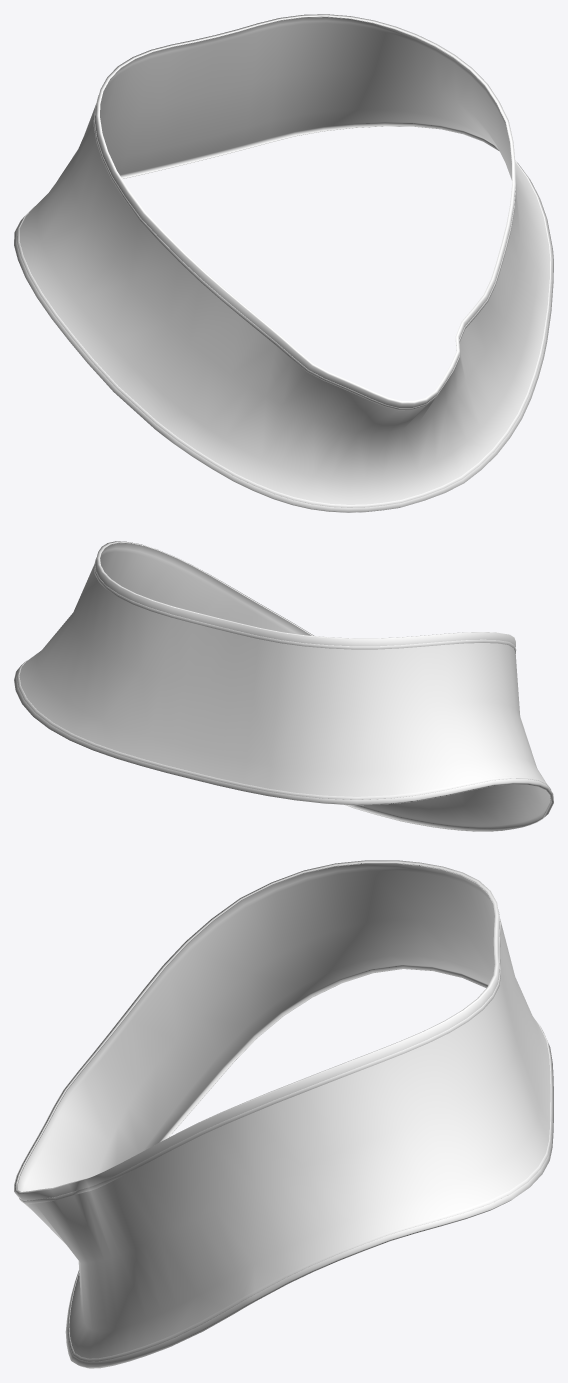
Rendered from Jac_Col.glb.
3 renders of one model, top to bottom at view 1: azimuth 30°, elevation 25°; view 2: azimuth 150°, elevation 25°; view 3: azimuth 270°, elevation 25°, orthographic. The views are drawn at different scales.
Visible parts, largest first — view 1: Col.001, Jac_Rope_Col.001; view 2: Col.001, Jac_Rope_Col.001; view 3: Col.001, Jac_Rope_Col.001.
Part boxes in pixels (<box>): Col.001: <box>14,14,553,512</box>; Jac_Rope_Col.001: <box>17,95,551,507</box>; Col.001: <box>14,541,553,831</box>; Jac_Rope_Col.001: <box>17,558,550,799</box>; Col.001: <box>14,860,553,1368</box>; Jac_Rope_Col.001: <box>19,910,552,1361</box>.
Bounding box in the file's own units: 0.3127 × 0.2062 × 0.2559.
2 materials, 2 textured.
